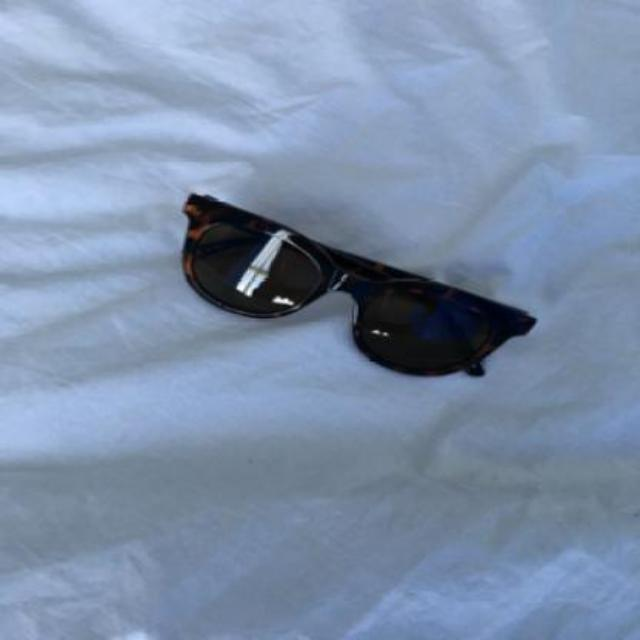sunglasses: (178, 192, 540, 378)
